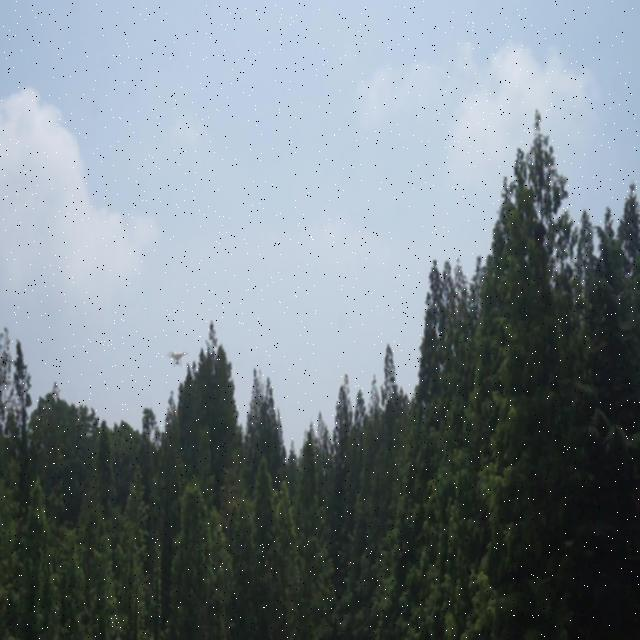UAV: (166, 351, 189, 367)
